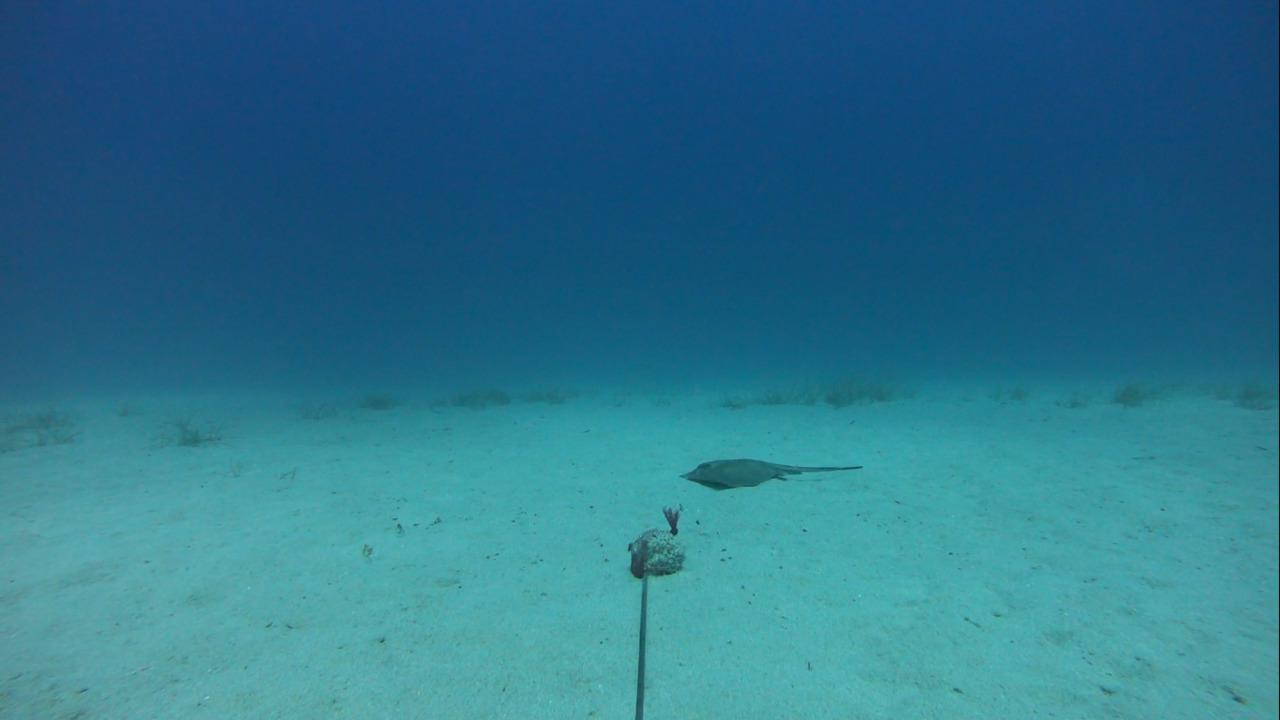myliobatis: (675, 450, 860, 499)
